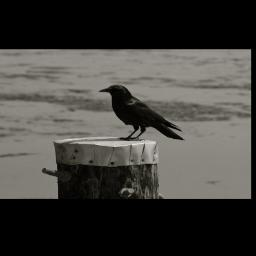Crow: (97, 83, 187, 144)
